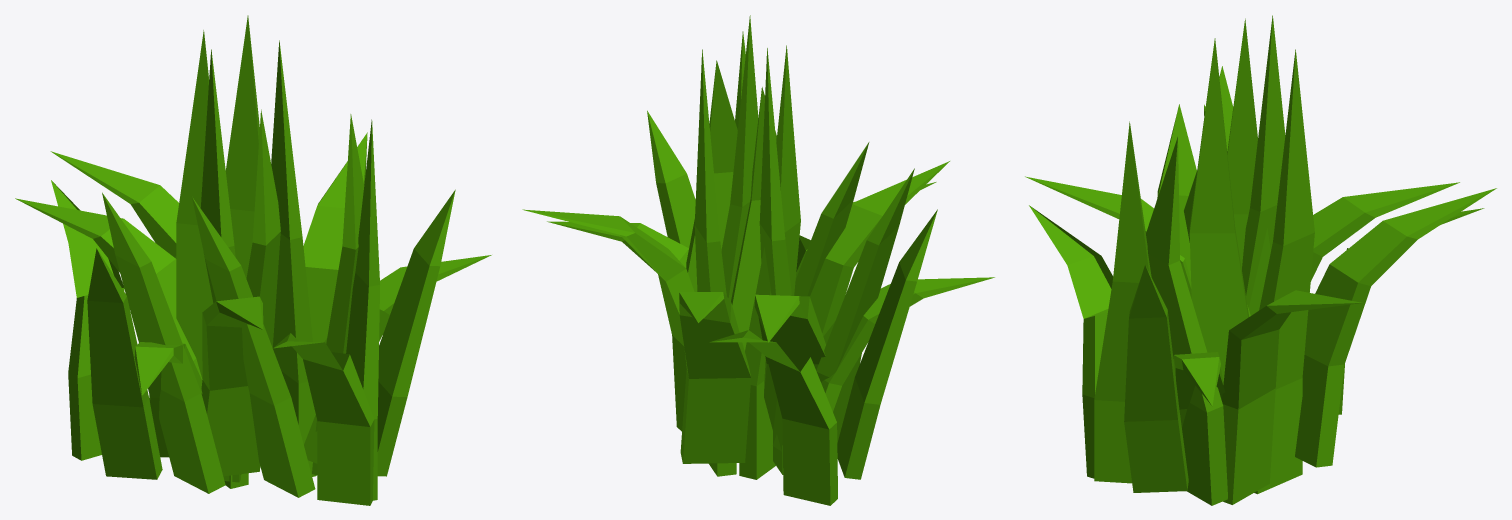
The model's file is Camp_Grass3.fbx.
3 views of the same model, side by side, from view 1: azimuth 30°, elevation 25°; view 2: azimuth 150°, elevation 25°; view 3: azimuth 270°, elevation 25° (orthographic). The views are drawn at different scales.
Visible parts, largest first — view 1: Cube.020; view 2: Cube.020; view 3: Cube.020.
Part boxes in pixels (x1,y1,x2,y2): Cube.020: [15, 15, 491, 505]; Cube.020: [522, 15, 994, 505]; Cube.020: [1025, 15, 1496, 505].
Size of the model in its own units: 32.11 by 33.37 by 32.35.
